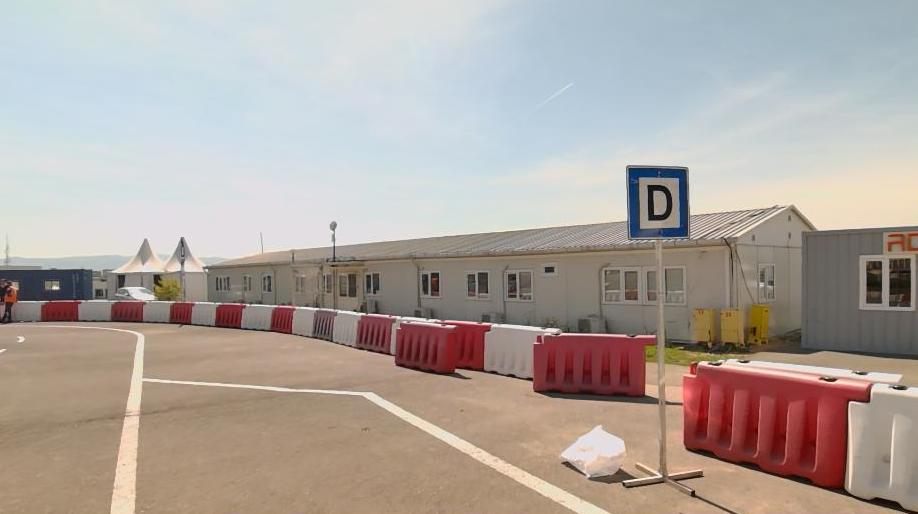nesne: (110, 376, 608, 513), (142, 378, 608, 513), (0, 323, 145, 513), (5, 322, 144, 513), (683, 362, 870, 491), (846, 381, 916, 511), (531, 332, 657, 392), (626, 164, 689, 239), (726, 358, 902, 380), (484, 323, 558, 374), (561, 425, 626, 478), (395, 321, 455, 372), (444, 320, 490, 366), (391, 316, 439, 354), (358, 314, 394, 353), (333, 309, 362, 346), (240, 303, 278, 329), (312, 307, 337, 341), (41, 300, 80, 321), (1, 280, 18, 323), (113, 300, 144, 322), (217, 303, 245, 327), (79, 299, 112, 319), (143, 301, 174, 322), (193, 302, 221, 325), (13, 300, 45, 320), (294, 307, 315, 337), (112, 286, 158, 298), (0, 329, 22, 354), (272, 307, 293, 333), (172, 302, 192, 323), (16, 333, 24, 343), (1, 347, 8, 352)
